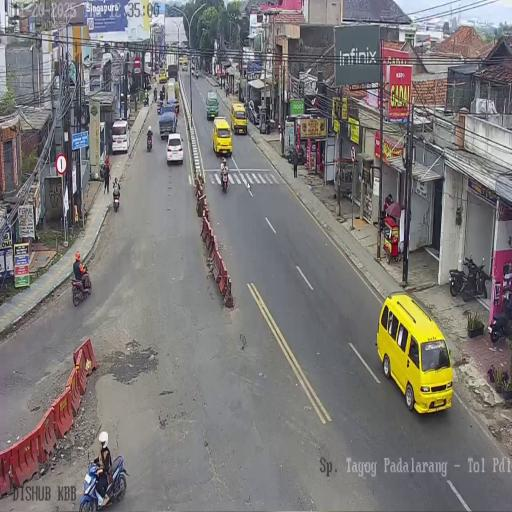car: (375, 292, 454, 414), (212, 116, 232, 156), (110, 119, 130, 155), (230, 101, 247, 136), (158, 108, 177, 139), (166, 132, 184, 164), (206, 90, 219, 120), (247, 100, 259, 124), (166, 78, 176, 101), (159, 68, 167, 84), (182, 59, 188, 71), (179, 57, 183, 65)
motorcycle: (79, 452, 129, 510), (450, 254, 486, 301), (488, 292, 512, 342), (71, 268, 92, 306), (284, 142, 305, 167), (220, 166, 229, 193), (112, 185, 120, 212), (146, 132, 152, 151), (156, 98, 162, 114), (174, 99, 180, 115), (160, 87, 165, 100), (153, 87, 157, 102), (144, 94, 148, 106), (191, 64, 195, 75), (195, 69, 199, 79)
truck: (165, 51, 178, 79), (144, 52, 151, 74)
